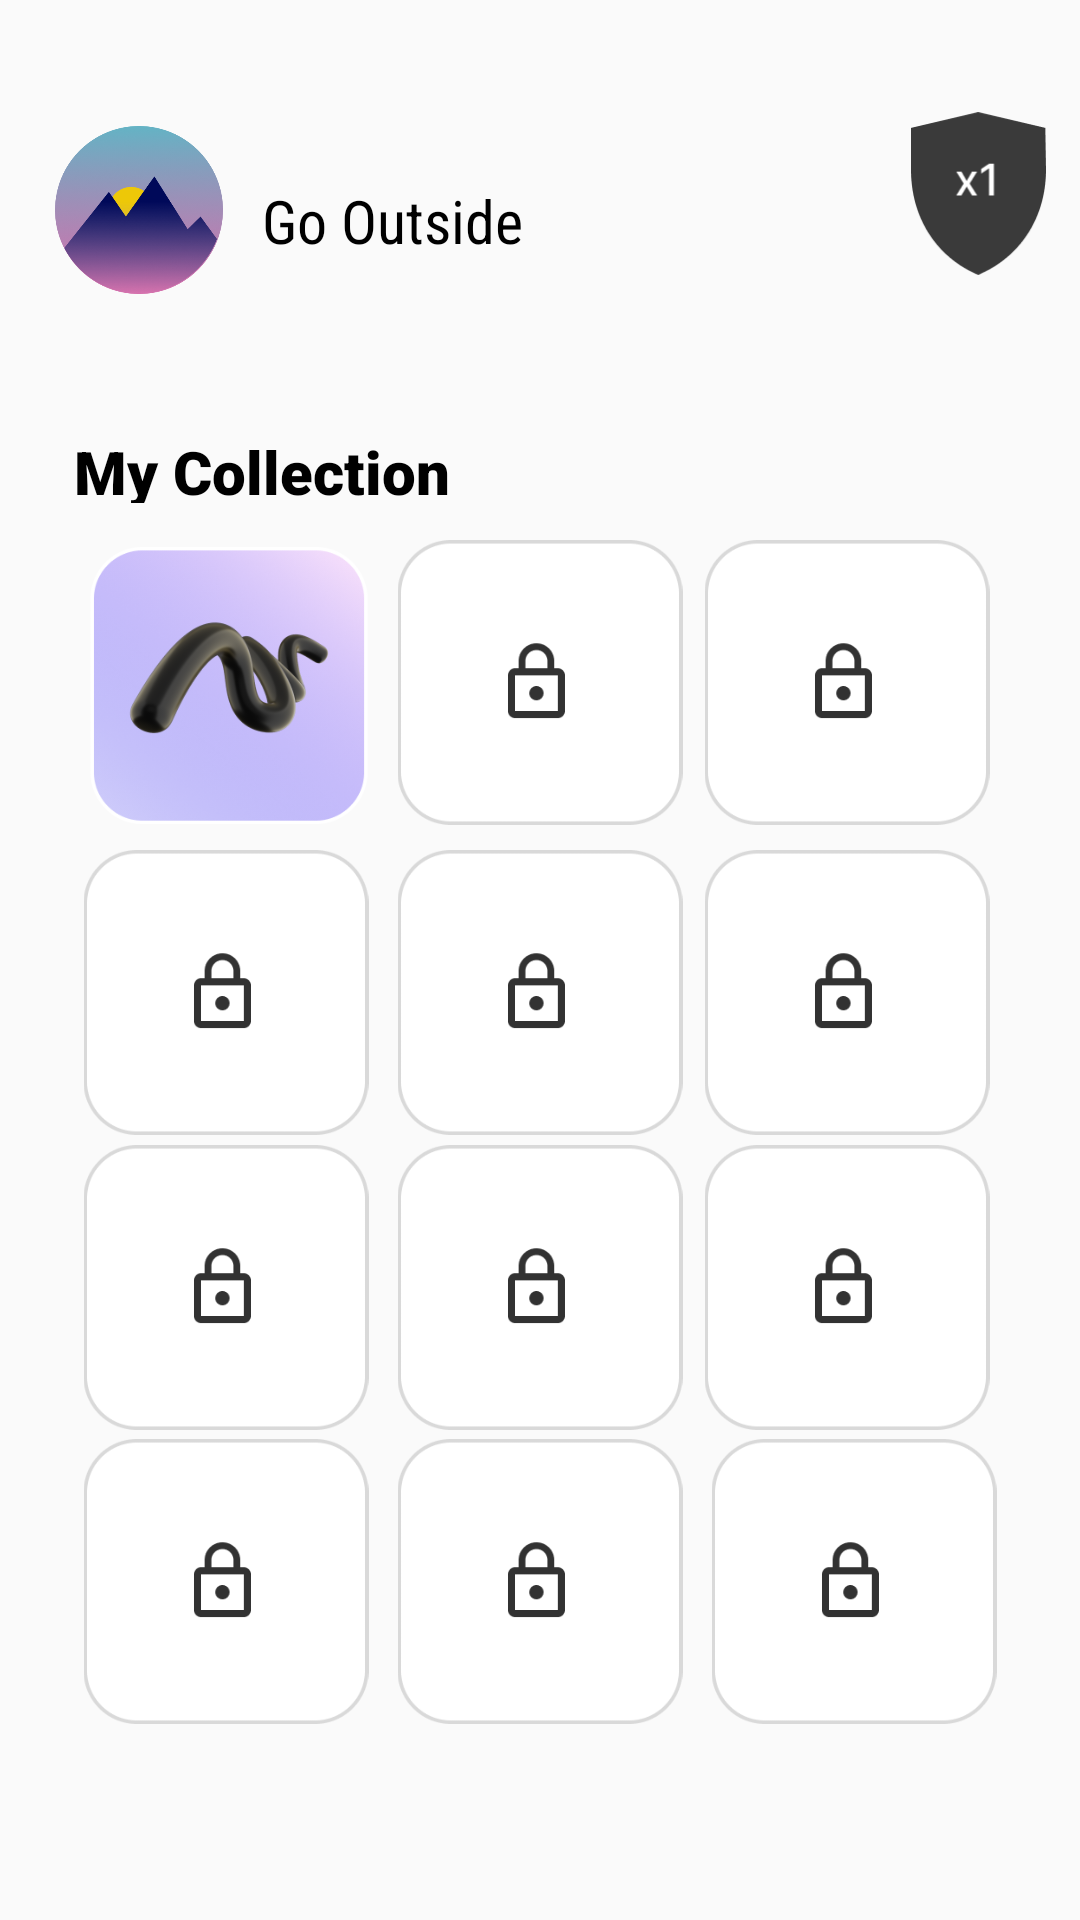

Locate icon controls on the screen. Image size 1080*1920, boxes as (left=x1, top=y1, right=x2, bottom=y2).
badge: (left=911, top=112, right=1046, bottom=275)
